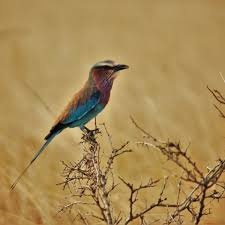bird: (7, 54, 131, 198)
